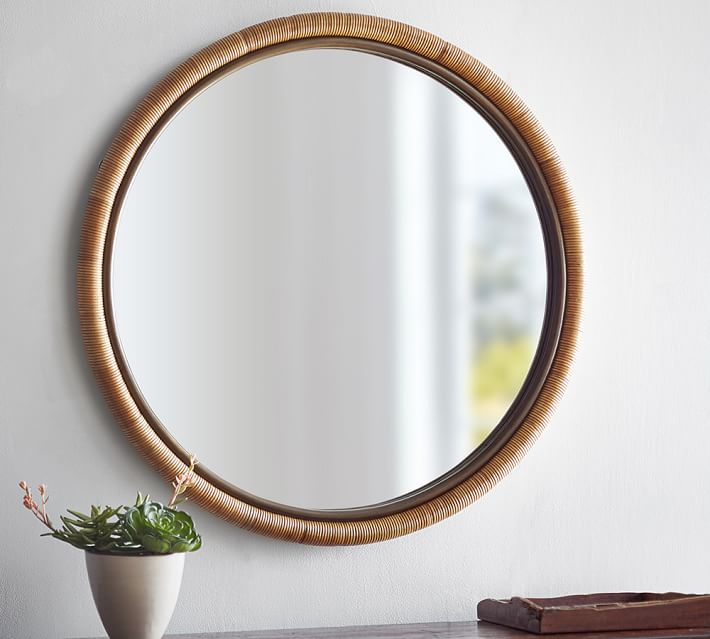Nonrec_Glass: (73, 19, 594, 548)
